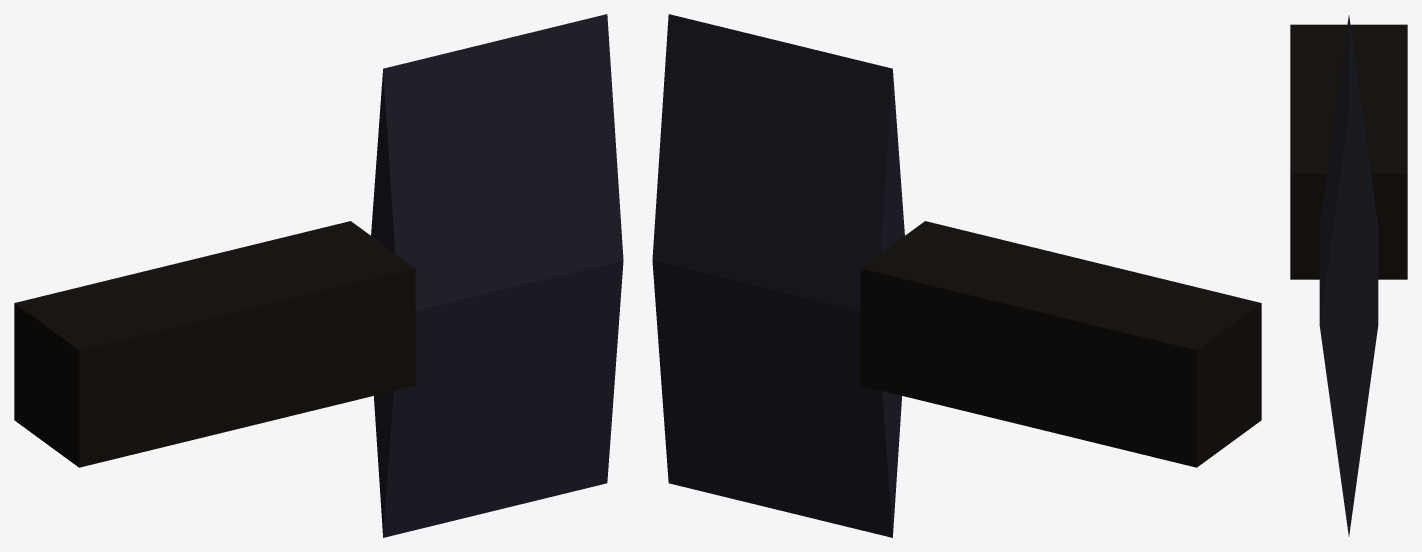
The model's file is axe.obj.
3 renders of one model, left to right at view 1: azimuth 30°, elevation 25°; view 2: azimuth 150°, elevation 25°; view 3: azimuth 270°, elevation 25°, orthographic. The views are drawn at different scales.
Parts seen in each view (by area): view 1: entity0_brush0, entity0_brush1, entity0_brush2; view 2: entity0_brush0, entity0_brush1, entity0_brush2; view 3: entity0_brush0, entity0_brush1, entity0_brush2.
Boxes of the visible parts, x1,y1,x2,y2 form: entity0_brush0: (14, 221, 415, 467); entity0_brush1: (371, 14, 623, 310); entity0_brush2: (374, 260, 623, 537); entity0_brush0: (860, 221, 1261, 467); entity0_brush1: (652, 14, 904, 310); entity0_brush2: (652, 260, 901, 537); entity0_brush0: (1290, 24, 1407, 279); entity0_brush1: (1319, 15, 1378, 325); entity0_brush2: (1319, 325, 1378, 536).
Bounding box in the file's own units: 160 × 128 × 32.
Materials: 2 (2 with a texture image).
